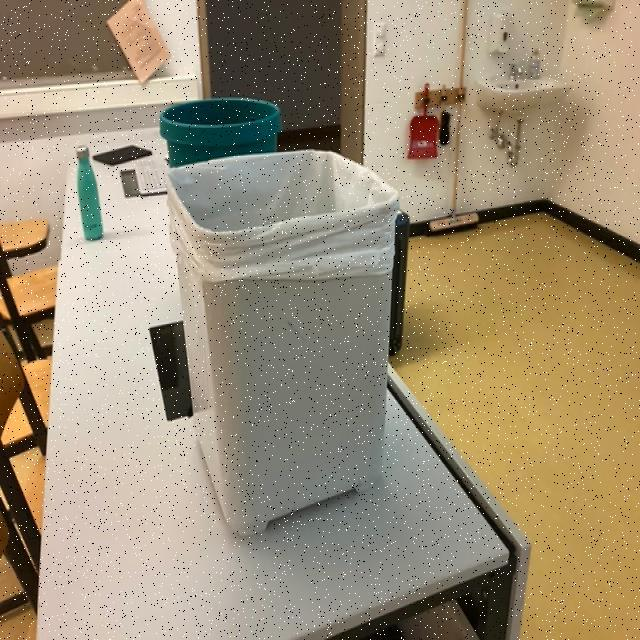garbage container: (157, 134, 407, 546), (151, 88, 280, 148)
